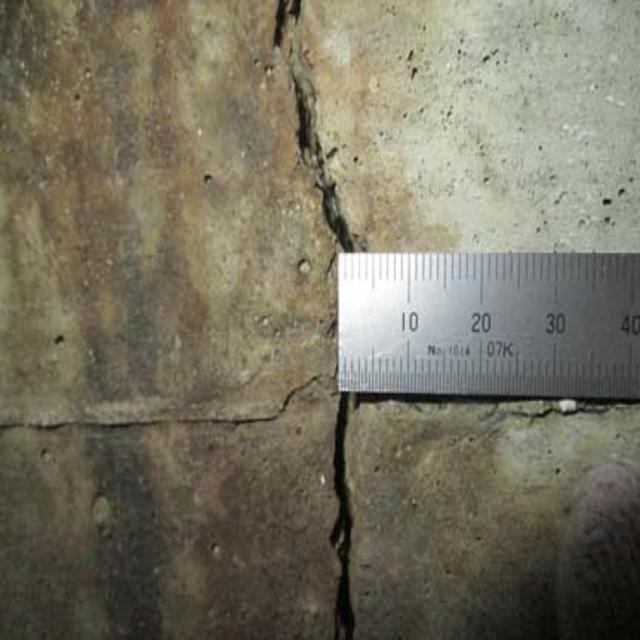crack: (258, 8, 377, 640)
